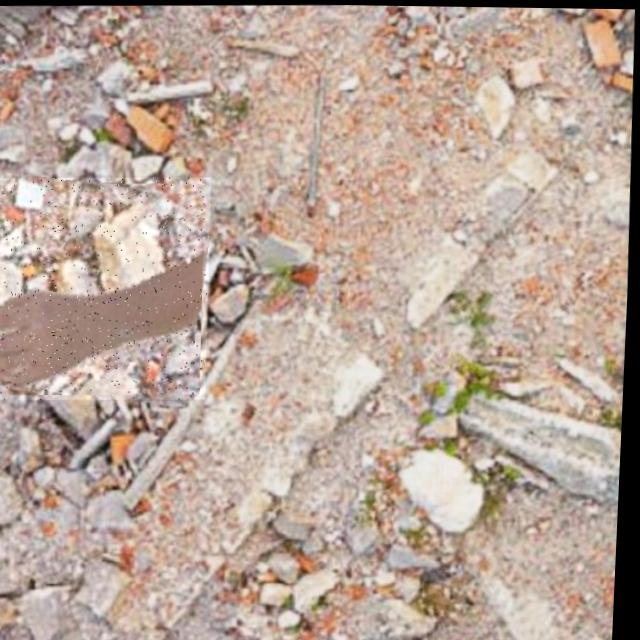Person in Rubble: (0, 173, 216, 402)
